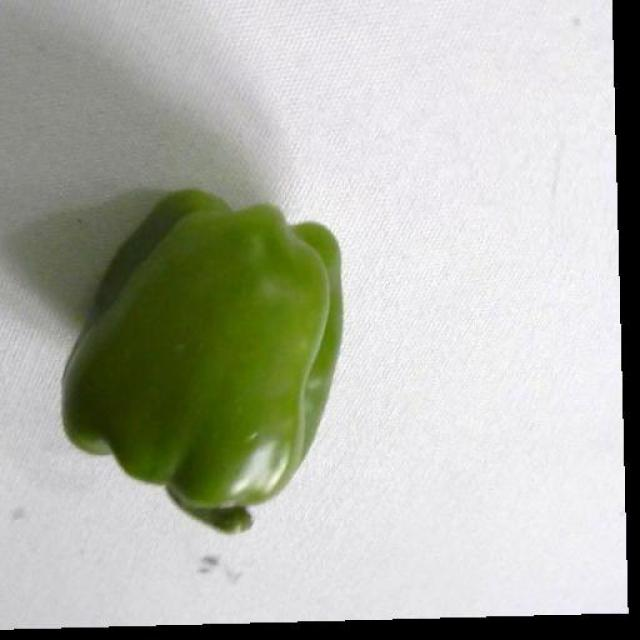Fresh_Capsicum: (102, 175, 298, 499)
